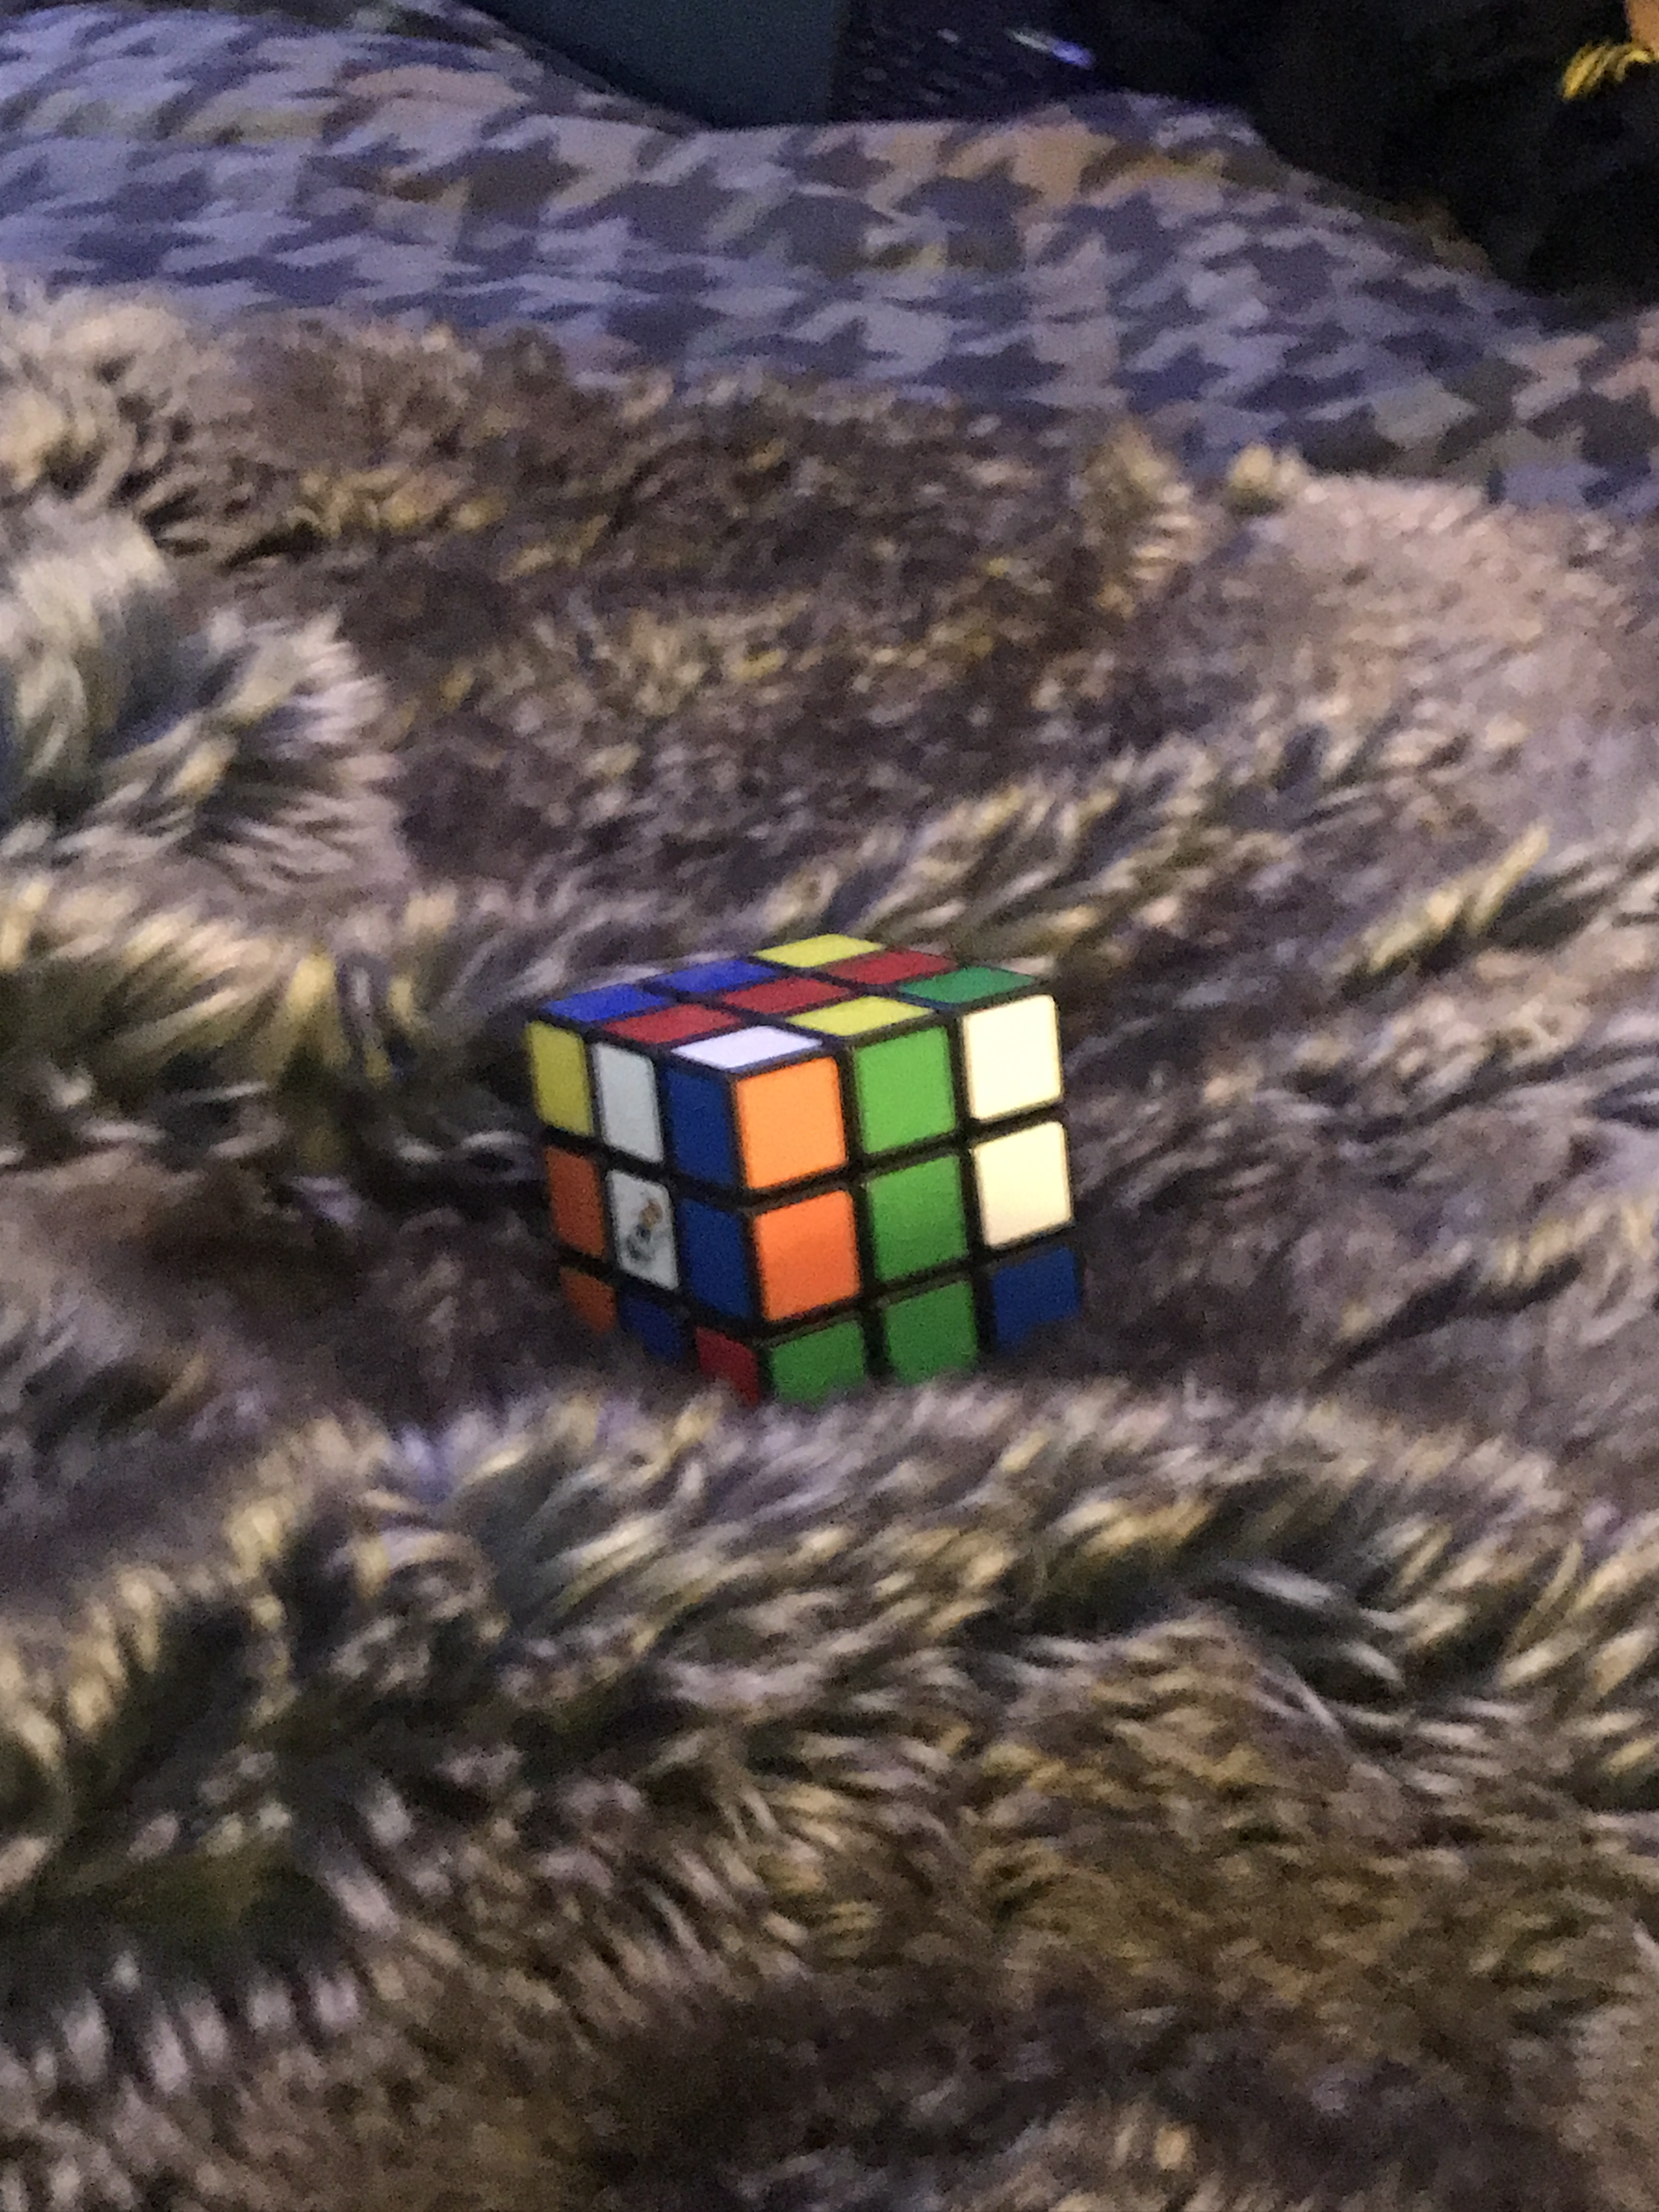rubiks: (525, 937, 1107, 1444)
